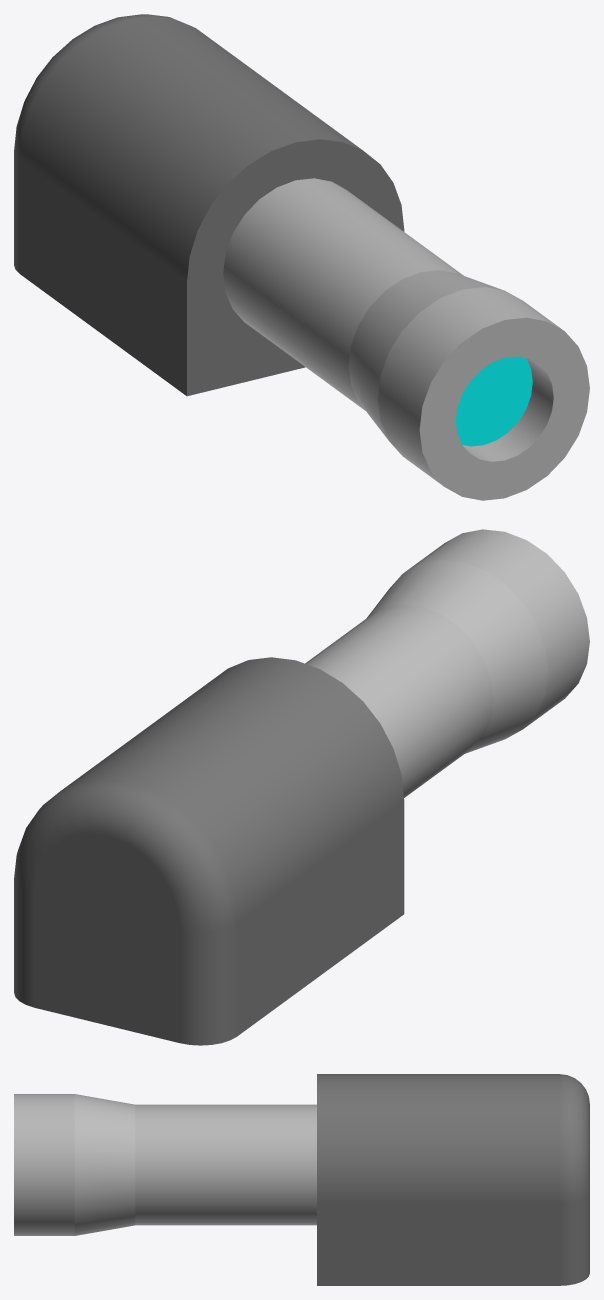
File: TankyTurret.fbx
3 renders of one model, top to bottom at view 1: azimuth 30°, elevation 25°; view 2: azimuth 150°, elevation 25°; view 3: azimuth 270°, elevation 25°, orthographic. The views are drawn at different scales.
Parts seen in each view (by area): view 1: Turret v2; view 2: Turret v2; view 3: Turret v2.
Part boxes in pixels (x1,y1,x2,y2): Turret v2: (14,14,589,500); Turret v2: (14,529,589,1045); Turret v2: (14,1074,589,1285).
Size of the model in its own units: 60 by 60 by 190.
